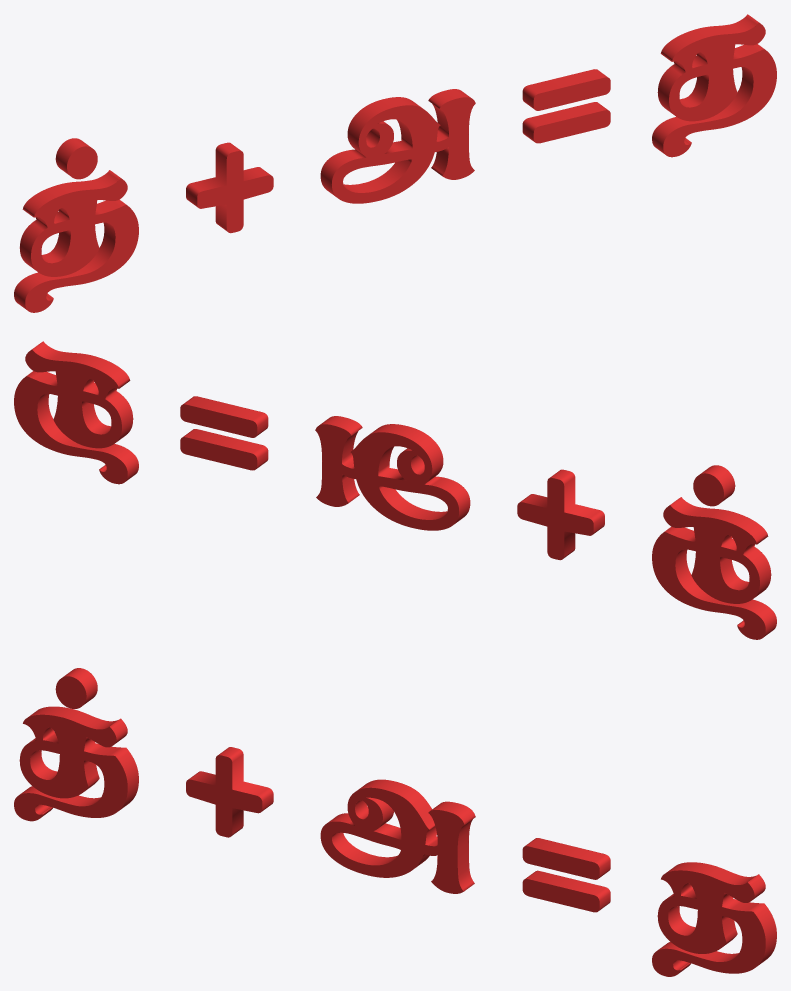
3 renders of one model, top to bottom at view 1: azimuth 30°, elevation 25°; view 2: azimuth 150°, elevation 25°; view 3: azimuth 330°, elevation 25°, orthographic.
Parts seen in each view (by area): view 1: tha; view 2: tha; view 3: tha.
Boxes of the visible parts, <box> form: tha: <box>14,14,776,312</box>; tha: <box>14,341,776,639</box>; tha: <box>14,668,776,976</box>.
Size of the model in its own units: 0.1669 by 0.0328 by 0.00431.
